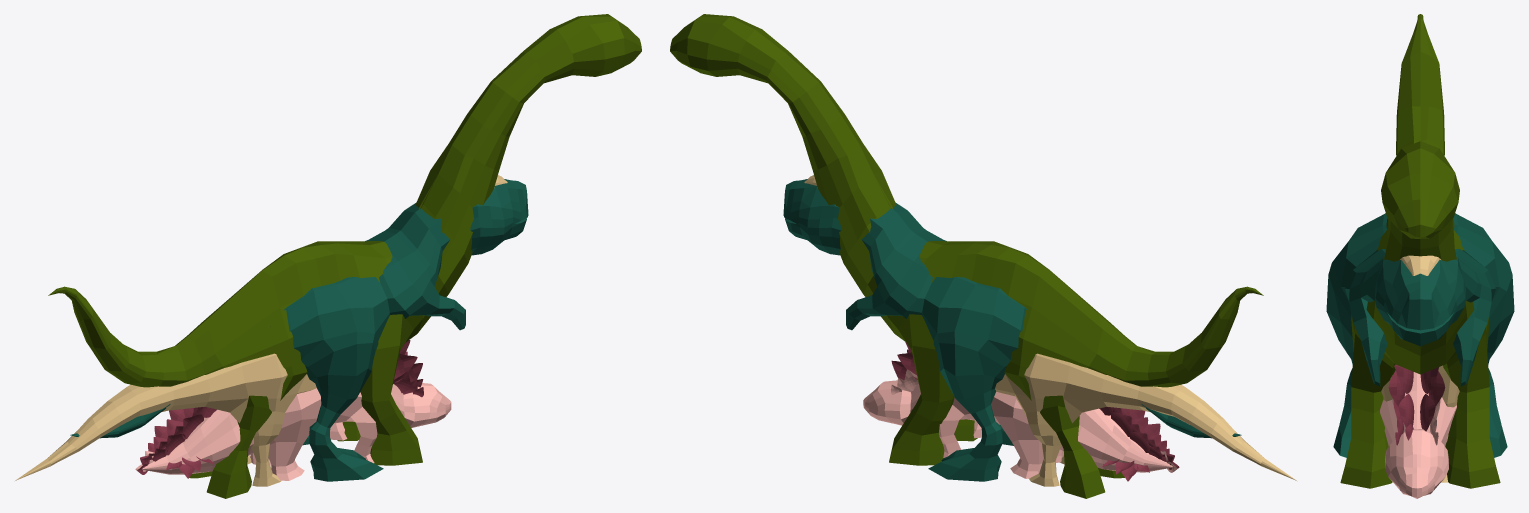
The model's file is SM_Dinos.fbx.
The picture shows the model from 3 angles, left to right: view 1: azimuth 30°, elevation 25°; view 2: azimuth 150°, elevation 25°; view 3: azimuth 270°, elevation 25°; orthographic projection. The views are drawn at different scales.
Visible parts, largest first — view 1: Brontosaurus, S_Trex, Stegosaurus, Diplodocus; view 2: Brontosaurus, S_Trex, Stegosaurus, Diplodocus; view 3: Brontosaurus, S_Trex, Stegosaurus, Diplodocus.
Part boxes in pixels (x1=…): Brontosaurus: x1=48, y1=14, x2=641, y2=498; S_Trex: x1=70, y1=179, x2=528, y2=481; Stegosaurus: x1=135, y1=326, x2=451, y2=480; Diplodocus: x1=15, y1=175, x2=507, y2=486; Brontosaurus: x1=670, y1=14, x2=1263, y2=498; S_Trex: x1=783, y1=179, x2=1241, y2=481; Stegosaurus: x1=863, y1=342, x2=1179, y2=481; Diplodocus: x1=804, y1=175, x2=1296, y2=486; Brontosaurus: x1=1340, y1=14, x2=1500, y2=488; S_Trex: x1=1326, y1=213, x2=1514, y2=457; Stegosaurus: x1=1380, y1=364, x2=1456, y2=498; Diplodocus: x1=1381, y1=255, x2=1459, y2=482.
Bounding box in the file's own units: 20.3 × 93.28 × 53.4.
